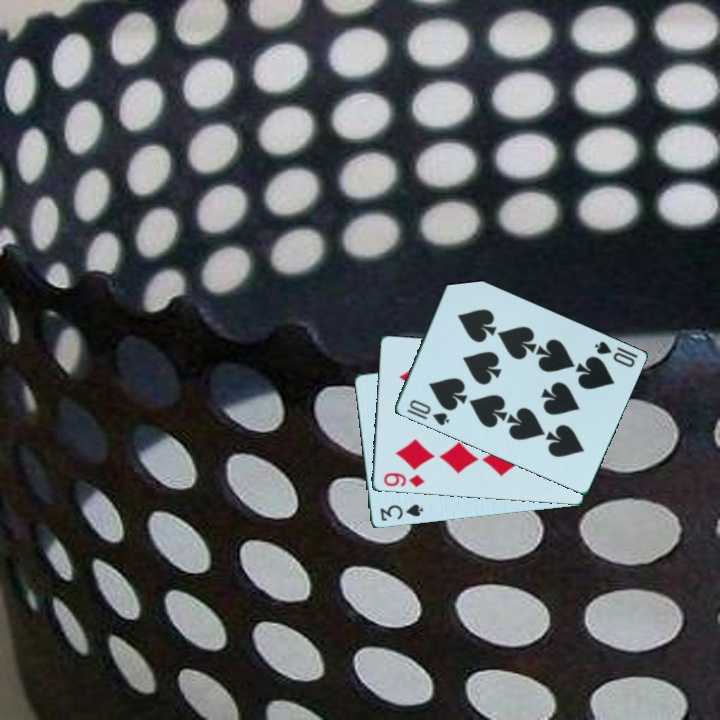10s: (590, 338, 640, 371), (403, 396, 451, 429)
3s: (376, 501, 426, 524)
9d: (380, 469, 427, 490)
